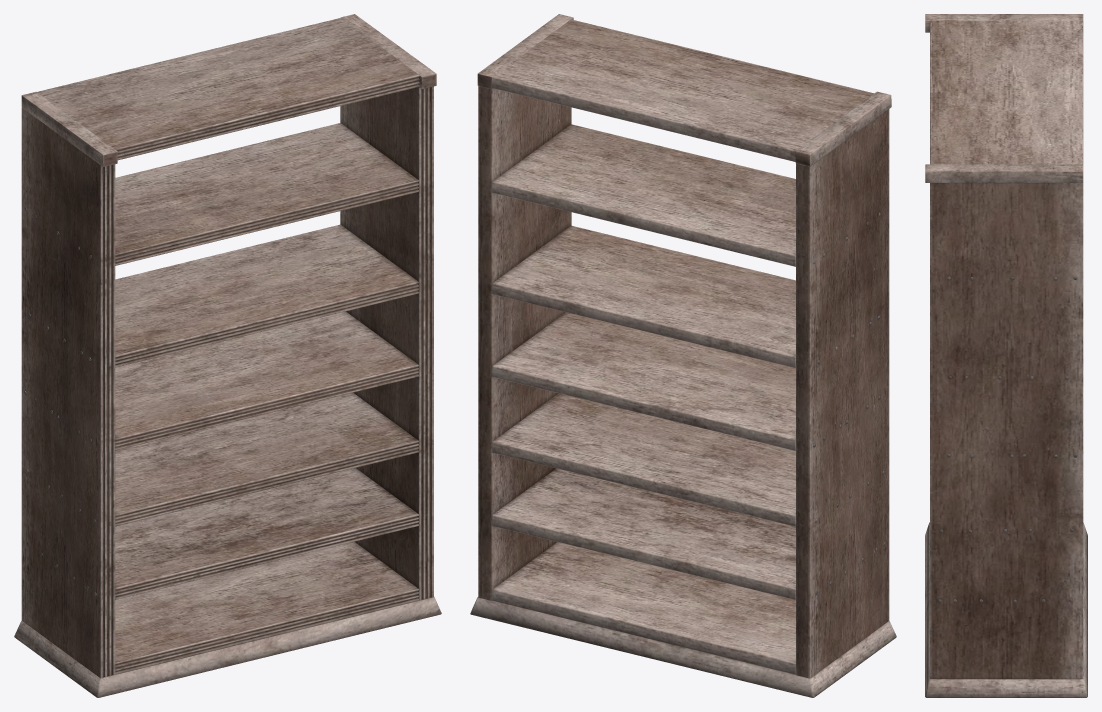
The model's file is wooden_bookshelf_worn.glb.
3 views of the same model, side by side, from view 1: azimuth 30°, elevation 25°; view 2: azimuth 150°, elevation 25°; view 3: azimuth 270°, elevation 25° (orthographic). The views are drawn at different scales.
Visible parts, largest first — view 1: wooden_bookshelf_worn; view 2: wooden_bookshelf_worn; view 3: wooden_bookshelf_worn.
Boxes of the visible parts, bbox=[...] form: wooden_bookshelf_worn: bbox=[14, 14, 441, 697]; wooden_bookshelf_worn: bbox=[470, 14, 896, 697]; wooden_bookshelf_worn: bbox=[925, 14, 1087, 697].
Size of the model in its own units: 1.37 by 2.06 by 0.5814.
1 material, 1 textured.
